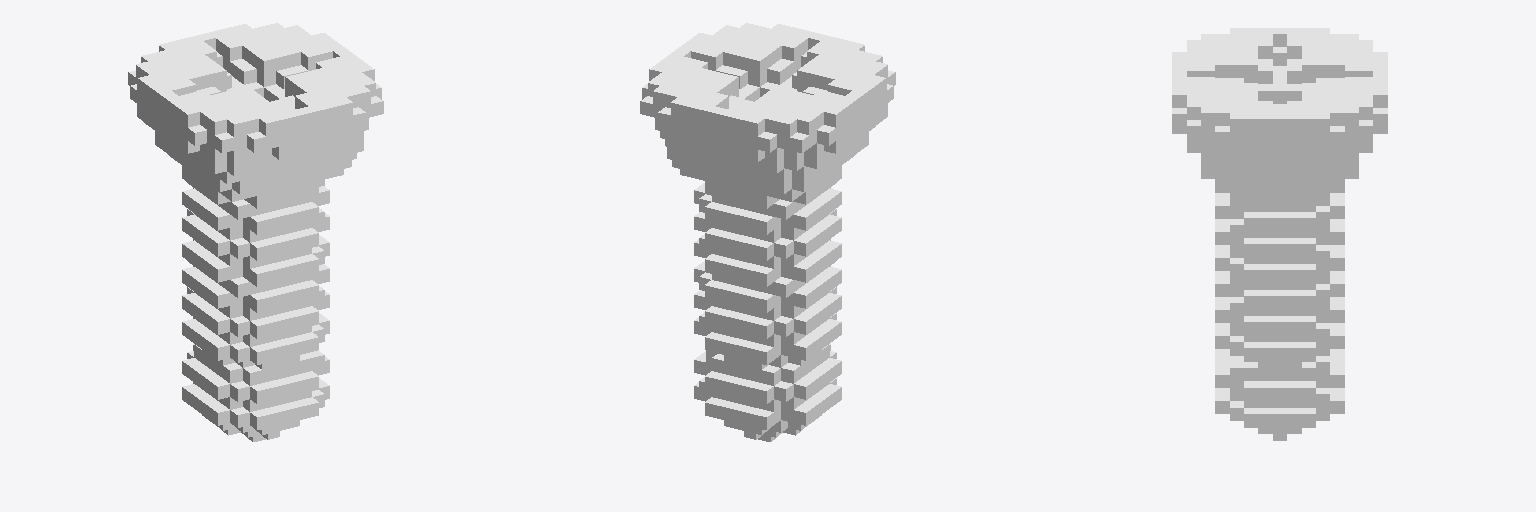
The model's file is srubka_ver2.obj.
The picture shows the model from 3 angles: view 1: azimuth 30°, elevation 25°; view 2: azimuth 150°, elevation 25°; view 3: azimuth 270°, elevation 25°; orthographic projection.
Parts seen in each view (by area): view 1: object 1; view 2: object 1; view 3: object 1.
Boxes of the visible parts, x1,y1,x2,y2 form: object 1: [128, 23, 383, 441]; object 1: [640, 23, 895, 441]; object 1: [1172, 28, 1387, 440].
Bounding box in the file's own units: 1.5 × 2.8 × 1.5.